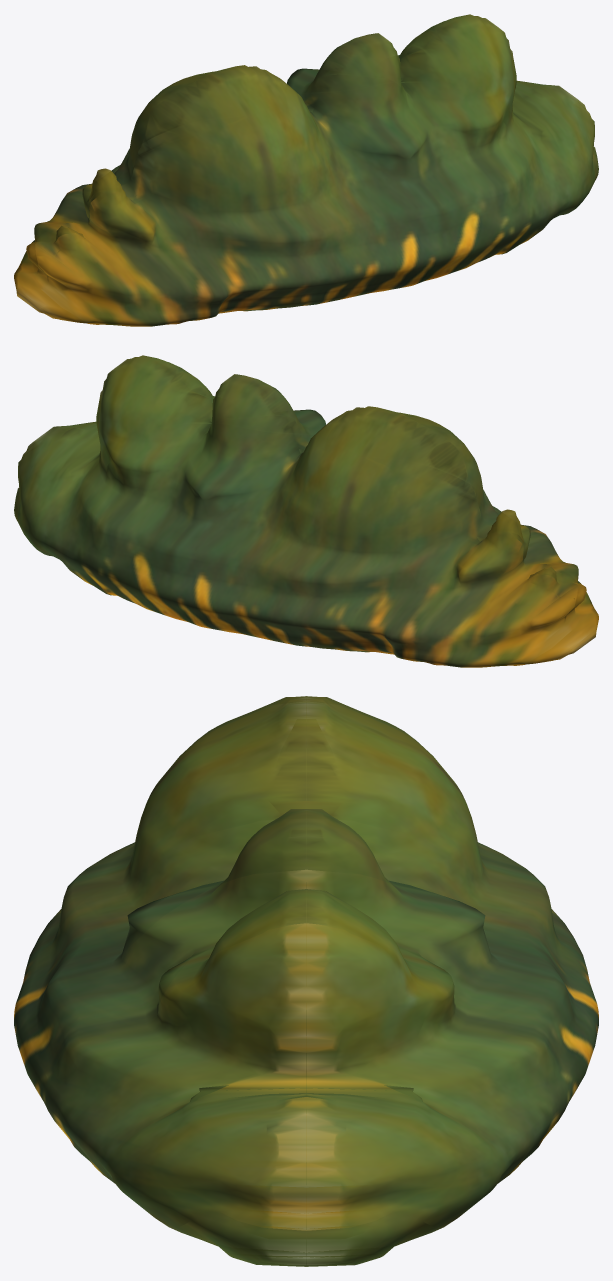
The model's file is 01_rocks_and_bushes_r02_c02.glb.
3 views of the same model, one above another, from view 1: azimuth 30°, elevation 25°; view 2: azimuth 150°, elevation 25°; view 3: azimuth 270°, elevation 25° (orthographic). The views are drawn at different scales.
Visible parts, largest first — view 1: 01_rocks_and_bushes_r02_c02; view 2: 01_rocks_and_bushes_r02_c02; view 3: 01_rocks_and_bushes_r02_c02.
Part boxes in pixels (box(x1,y1,x2,y2)): 01_rocks_and_bushes_r02_c02: box(14, 14, 598, 326); 01_rocks_and_bushes_r02_c02: box(14, 355, 598, 667); 01_rocks_and_bushes_r02_c02: box(14, 696, 598, 1266).
Size of the model in its own units: 2.77 by 1.04 by 1.58.
Materials: 1 (1 with a texture image).
